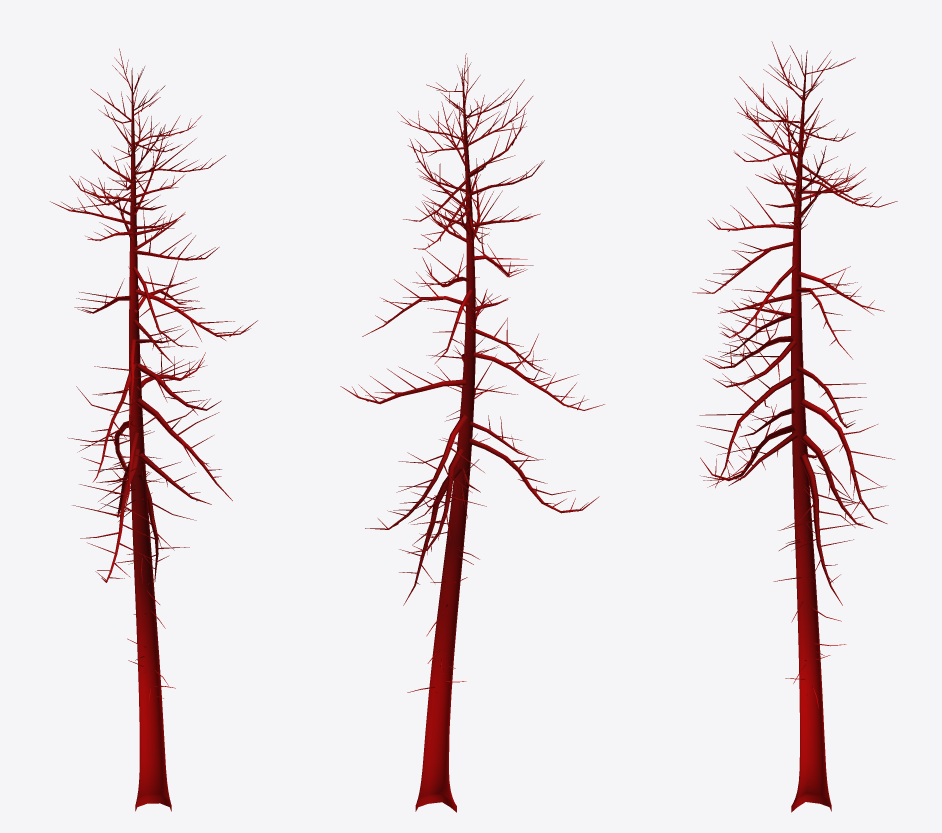
The model's file is pine_b_lod1.glb.
3 views of the same model, side by side, from view 1: azimuth 30°, elevation 25°; view 2: azimuth 150°, elevation 25°; view 3: azimuth 270°, elevation 25° (orthographic).
Parts seen in each view (by area): view 1: pine_b_LOD1; view 2: pine_b_LOD1; view 3: pine_b_LOD1.
Boxes of the visible parts, x1,y1,x2,y2 form: pine_b_LOD1: (50, 48, 257, 811); pine_b_LOD1: (340, 53, 604, 812); pine_b_LOD1: (692, 41, 897, 812).
Bounding box in the file's own units: 9.55 × 29.83 × 8.98.
